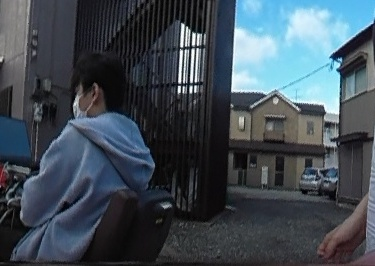person: (4, 51, 148, 266)
